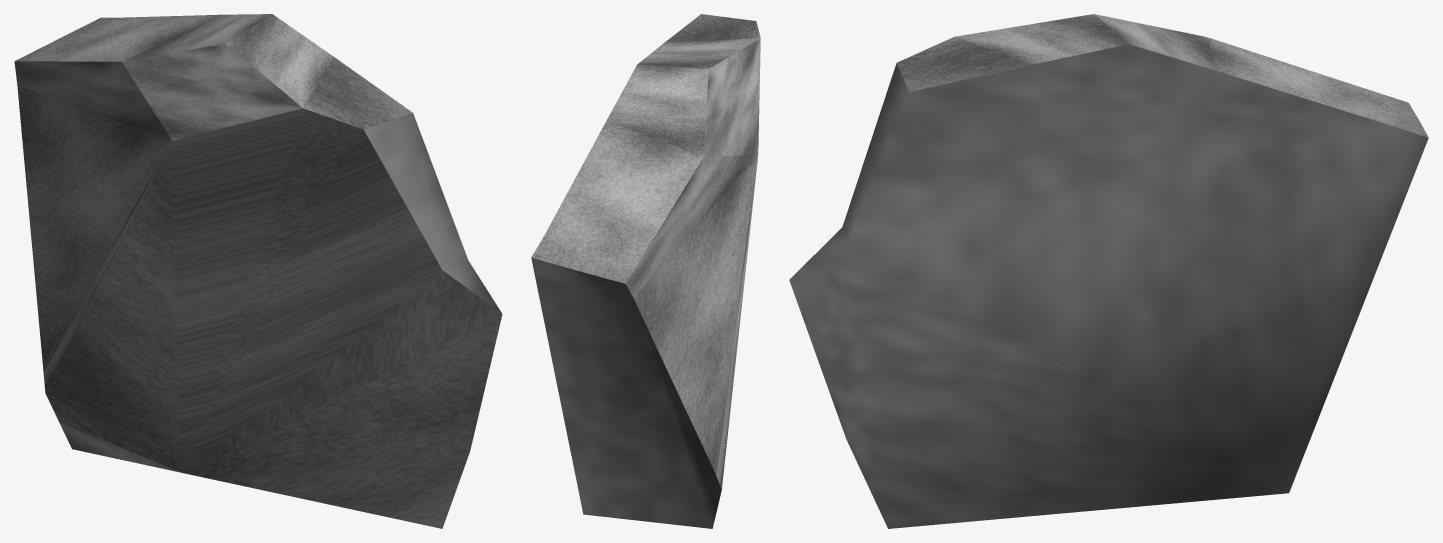
The model's file is leg_2_cell_014.fbx.
The picture shows the model from 3 angles, left to right: view 1: azimuth 30°, elevation 25°; view 2: azimuth 150°, elevation 25°; view 3: azimuth 270°, elevation 25°; orthographic projection. The views are drawn at different scales.
Parts seen in each view (by area): view 1: leg_2_cell.014; view 2: leg_2_cell.014; view 3: leg_2_cell.014.
Boxes of the visible parts, <box> form: leg_2_cell.014: <box>14,14,502,528</box>; leg_2_cell.014: <box>531,14,760,528</box>; leg_2_cell.014: <box>789,14,1428,528</box>.
Bounding box in the file's own units: 10.51 × 19.62 × 24.85.
